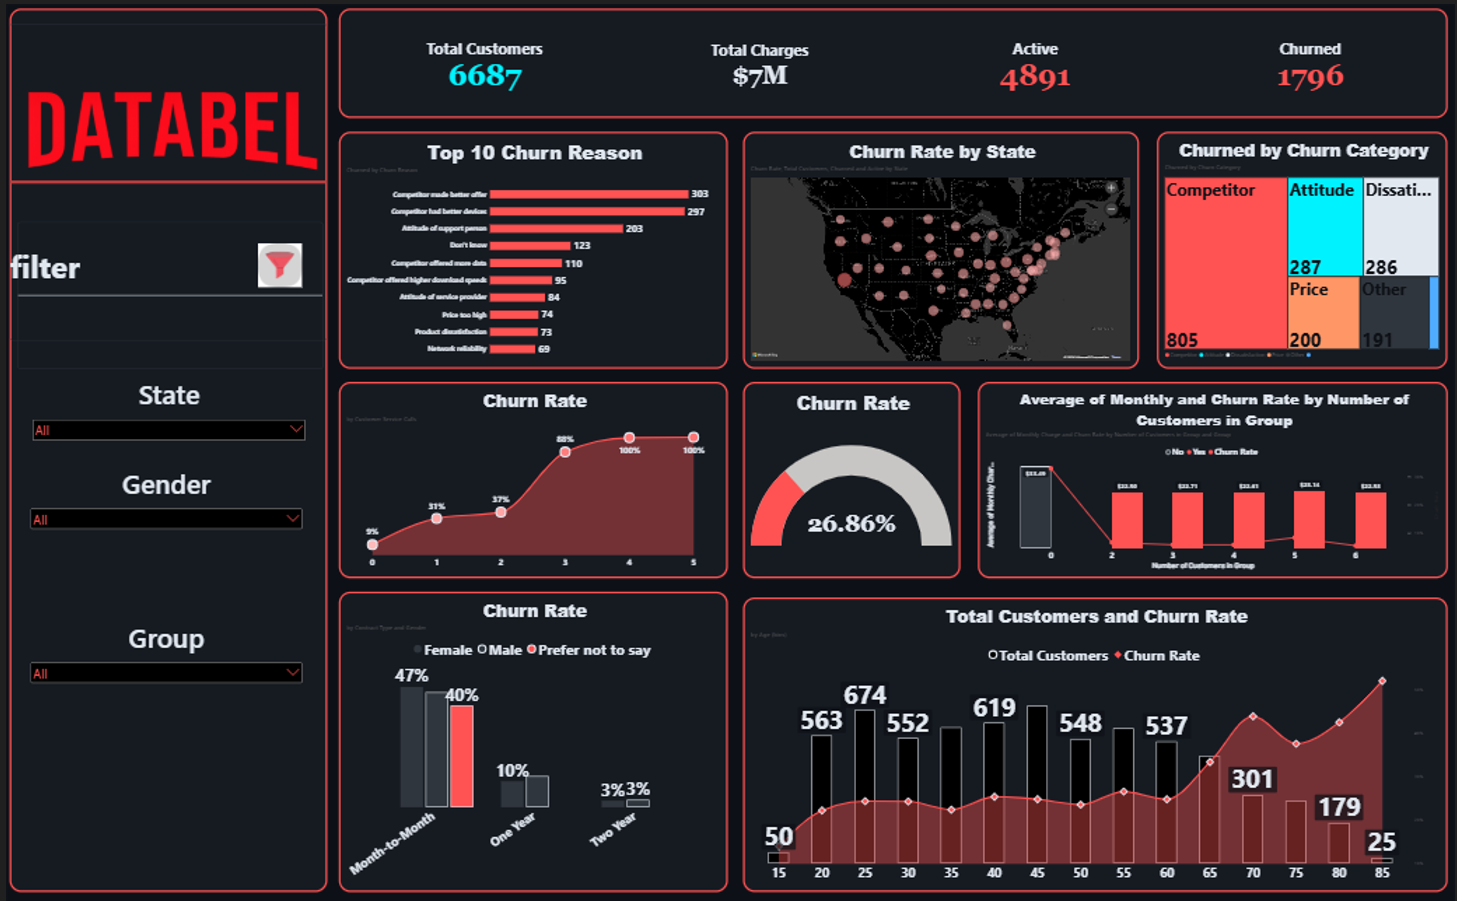

This screenshot's page, from the dashboard's own definition file:
{"tool":"powerbi","page":{"name":"Page 1","canvas":[3800,2400],"ordinal":0},"visuals":[{"type":"shape","box":[35,30,825,2295],"z":0},{"type":"image","box":[47,70,803,546],"z":1000},{"type":"shape","box":[36,70,824,822],"z":2000},{"type":"slicer","title":"State","fields":{"Values":["Databel - Data.State"]},"box":[92,986,718,214],"z":3000},{"type":"textbox","box":[36.1,645.8,505.4,220.6],"z":4000},{"type":"shape","box":[55,585,794.2,381.1],"z":5000},{"type":"slicer","title":"Gender","fields":{"Values":["Databel - Data.Gender"]},"box":[84,1216,714,240],"z":6000},{"type":"slicer","title":"Group","fields":{"Values":["Databel - Data.Group"]},"box":[84,1616,714,282],"z":7000},{"type":"image","box":[673.9,641.8,124.2,114.2],"z":8000},{"type":"shape","box":[890,32,2880,284],"z":9000},{"type":"cardVisual","fields":{"Data":["_Measures.Total Customers","_Measures.Total Charges","_Measures.Active","_Measures.Churned"]},"box":[916.7,70,2853.3,213.3],"z":10000},{"type":"clusteredBarChart","title":"Top 10 Churn Reason","fields":{"Category":["Databel - Data.Churn Reason"],"Y":["_Measures.Churned"]},"box":[890,350,1010,616],"z":11000},{"type":"map","title":"Churn Rate by State","fields":{"Category":["Databel - Data.State"],"Size":["_Measures.Churn Rate"]},"box":[1942,350,1028,616],"z":12000},{"type":"treemap","title":"Churned by Churn Category","fields":{"Group":["Databel - Data.Churn Category","Databel - Data.Churn Reason"],"Values":["_Measures.Churned"]},"box":[3016,350,754,616],"z":13000},{"type":"lineChart","fields":{"Category":["Databel - Data.Customer Service Calls"],"Y":["_Measures.Churn Rate"]},"box":[890,1000,1010,510],"z":14000},{"type":"gauge","fields":{"Y":["_Measures.Churn Rate"]},"box":[1942,1000,564,510],"z":15000},{"type":"lineClusteredColumnComboChart","title":"Average of Monthly and Churn Rate by Number of Customers in Group","fields":{"Category":["Databel - Data.Number of Customers in Group"],"Series":["Databel - Data.Group"],"Y":["Avg(Databel - Data.Monthly Charge)"],"Y2":["_Measures.Churn Rate"]},"box":[2550,1000,1220,510],"z":16000},{"type":"lineClusteredColumnComboChart","fields":{"Category":["Databel - Data.Age (bins)"],"Y":["_Measures.Total Customers"],"Y2":["_Measures.Churn Rate"]},"box":[1940,1560,1830,765],"z":17000},{"type":"clusteredColumnChart","fields":{"Category":["Databel - Data.Contract Type"],"Series":["Databel - Data.Gender"],"Y":["_Measures.Churn Rate"]},"box":[890,1545,1010,780],"z":18000}]}

Visuals, with their boxes in screenshot pixels (x1, y1, x2, y2), scaled from the page's 3800x2400 canvas onto the 1457x901 screenshot:
shape: select_region(13, 11, 330, 873)
image: select_region(18, 26, 326, 231)
shape: select_region(14, 26, 330, 335)
"State" slicer: select_region(35, 370, 311, 450)
textbox: select_region(14, 242, 208, 325)
shape: select_region(21, 220, 326, 363)
"Gender" slicer: select_region(32, 457, 306, 547)
"Group" slicer: select_region(32, 607, 306, 713)
image: select_region(258, 241, 306, 284)
shape: select_region(341, 12, 1445, 119)
cardVisual - _Measures.Total Customers x _Measures.Total Charges: select_region(351, 26, 1445, 106)
"Top 10 Churn Reason" clusteredBarChart: select_region(341, 131, 728, 363)
"Churn Rate by State" map: select_region(745, 131, 1139, 363)
"Churned by Churn Category" treemap: select_region(1156, 131, 1445, 363)
lineChart - Databel - Data.Customer Service Calls x _Measures.Churn Rate: select_region(341, 375, 728, 567)
gauge - _Measures.Churn Rate: select_region(745, 375, 961, 567)
"Average of Monthly and Churn Rate by Number of Customers in Group" lineClusteredColumnComboChart: select_region(978, 375, 1445, 567)
lineClusteredColumnComboChart - Databel - Data.Age (bins) x _Measures.Total Customers: select_region(744, 586, 1445, 873)
clusteredColumnChart - Databel - Data.Contract Type x Databel - Data.Gender: select_region(341, 580, 728, 873)
